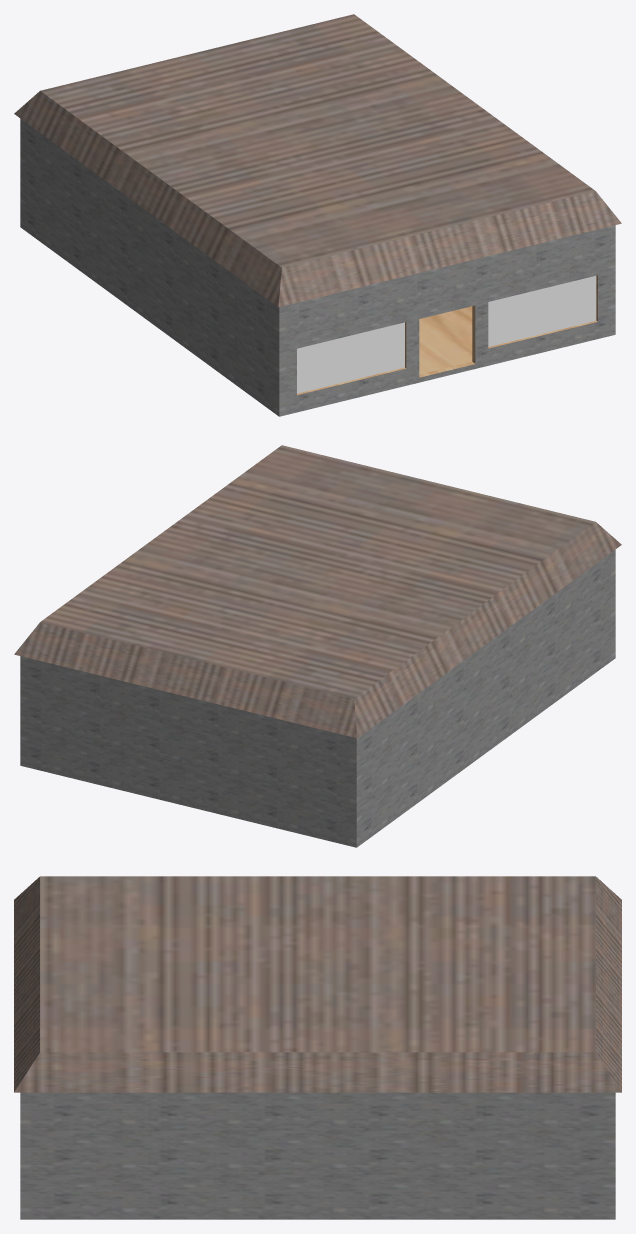
The model's file is Lånekassa.glb.
The picture shows the model from 3 angles, top to bottom: view 1: azimuth 30°, elevation 25°; view 2: azimuth 150°, elevation 25°; view 3: azimuth 270°, elevation 25°; orthographic projection. The views are drawn at different scales.
Parts seen in each view (by area): view 1: LaaneKassa, Glass; view 2: LaaneKassa; view 3: LaaneKassa.
Part boxes in pixels (x1,y1,x2,y2): LaaneKassa: (14, 14, 621, 416); Glass: (297, 276, 596, 393); LaaneKassa: (14, 445, 621, 847); LaaneKassa: (14, 876, 621, 1219).
Size of the model in its own units: 18.38 by 7.16 by 24.51.
3 materials, 2 textured.
